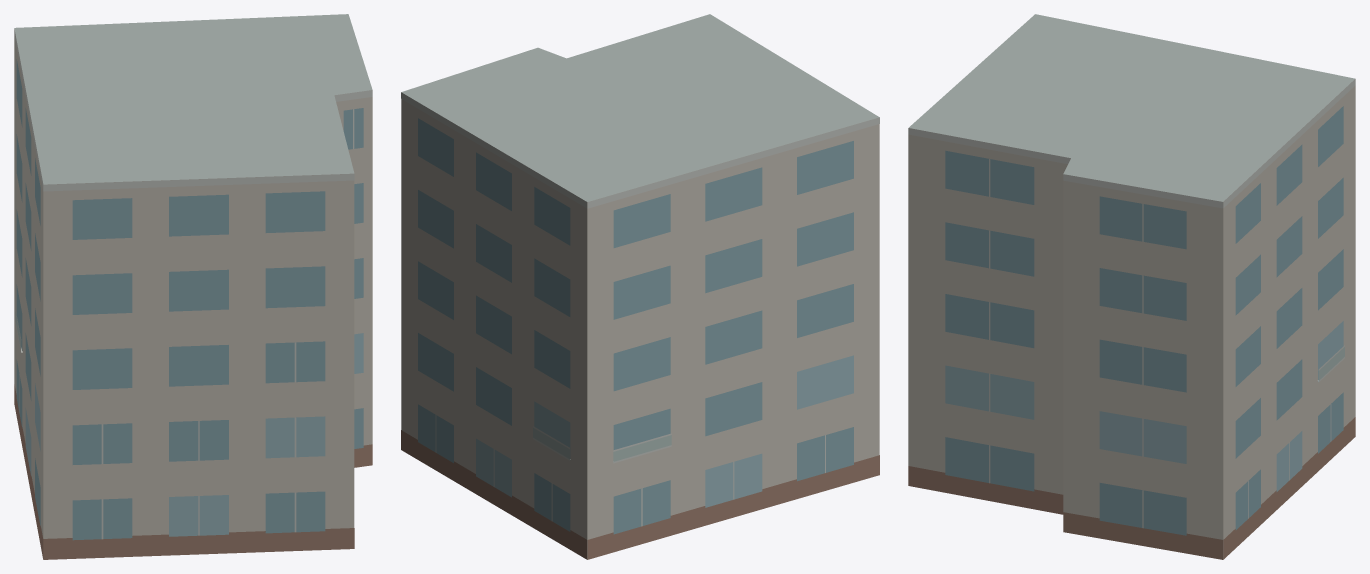
File: survey-upis-32936354.glb
3 views of the same model, side by side, from view 1: azimuth 30°, elevation 25°; view 2: azimuth 150°, elevation 25°; view 3: azimuth 270°, elevation 25° (orthographic). The views are drawn at different scales.
Parts seen in each view (by area): view 1: survey-upis-32936354.tmp; view 2: survey-upis-32936354.tmp; view 3: survey-upis-32936354.tmp.
Part boxes in pixels (<box>): survey-upis-32936354.tmp: <box>14,14,372,559</box>; survey-upis-32936354.tmp: <box>401,14,879,559</box>; survey-upis-32936354.tmp: <box>908,14,1355,559</box>.
Size of the model in its own units: 14.93 by 13.25 by 15.01.
